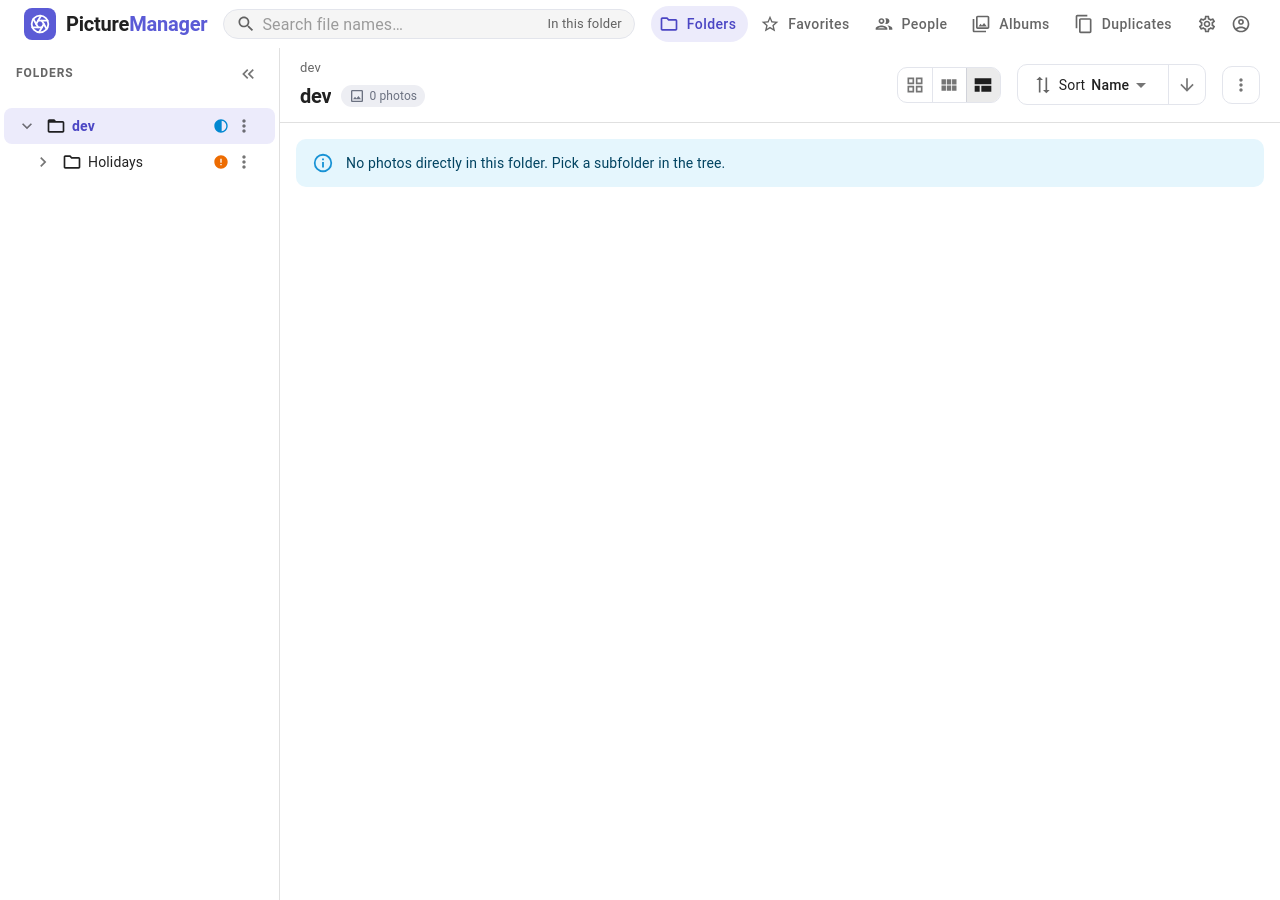
Test: FolderTree › shows the folder name in a tooltip on hover
Hover over the text "dev".
mouse_move(83, 126)  # box x1=72 y1=118 x2=95 y2=134
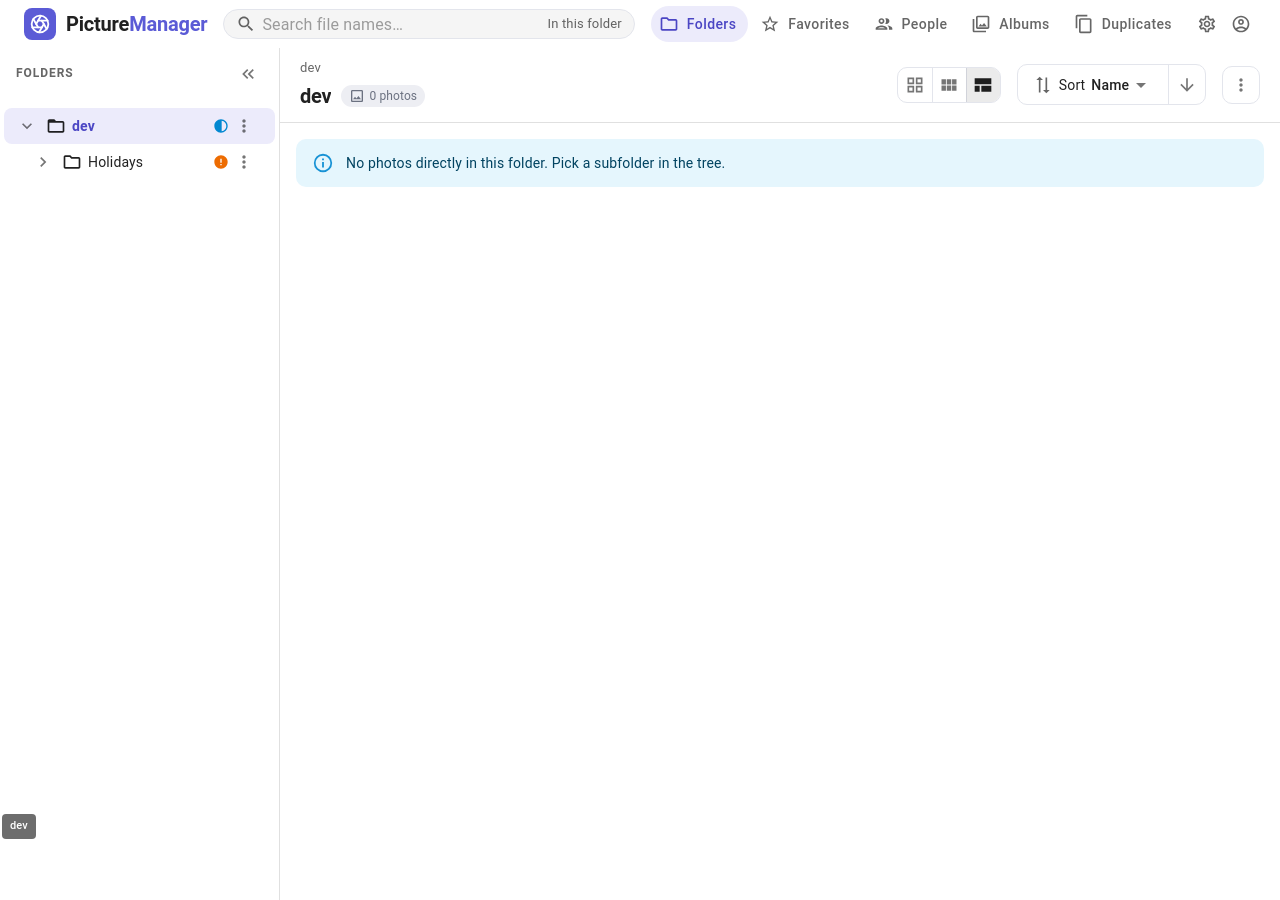
Expected: the tooltip reads "dev", x1=10 y1=819 x2=28 y2=832
